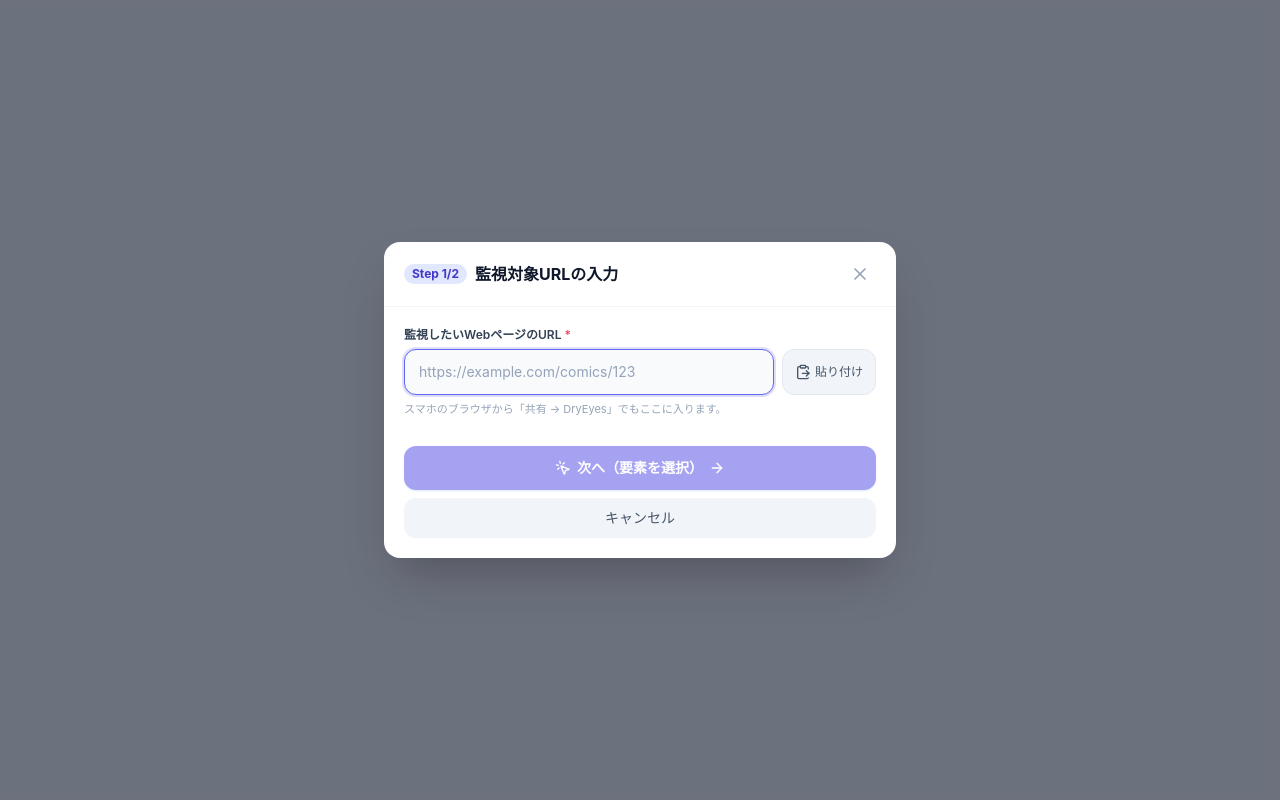
登録前の重複確認 › clears the warning once the URL is edited
Type "https://example.com/manga" into the field with placeholder "https://example.com/comics/123" at (589, 372), box [404,349,774,395]
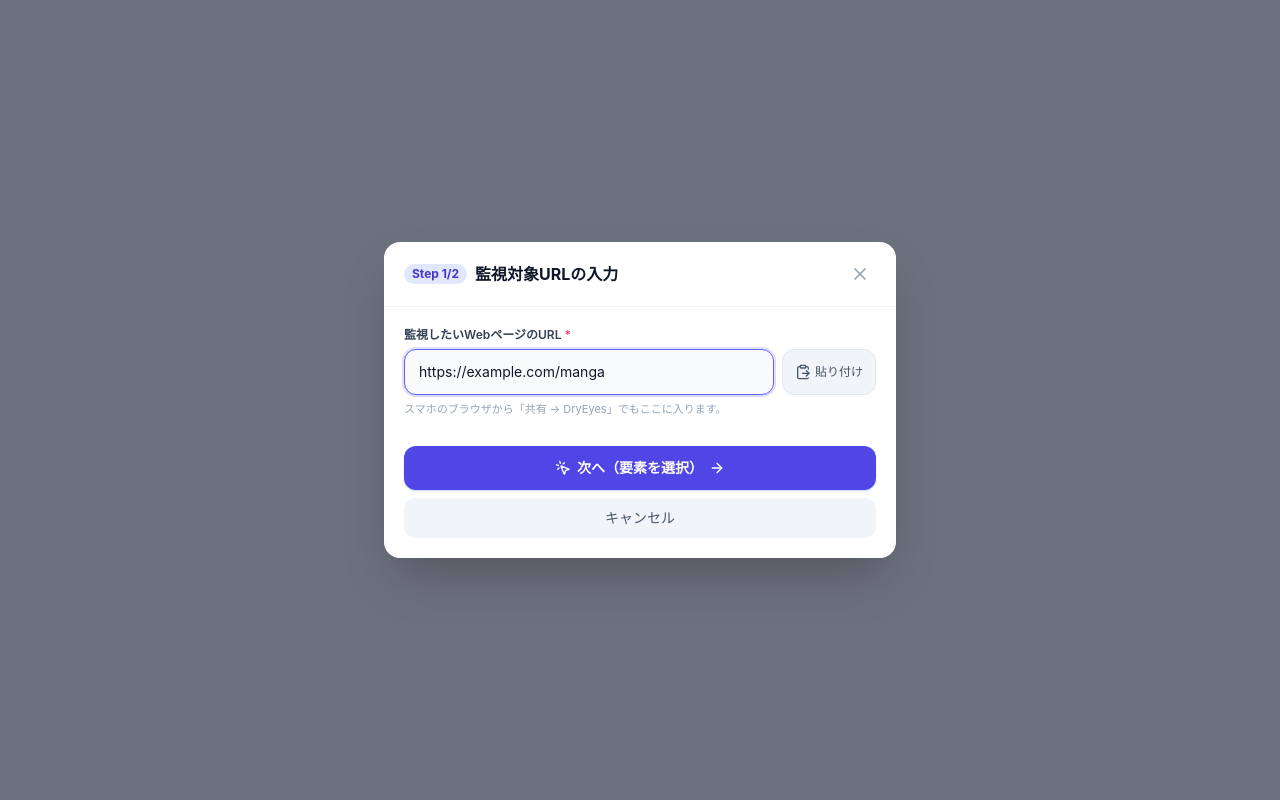
Click the button "次へ（要素を選択）" at (640, 468), box [404,446,876,490]
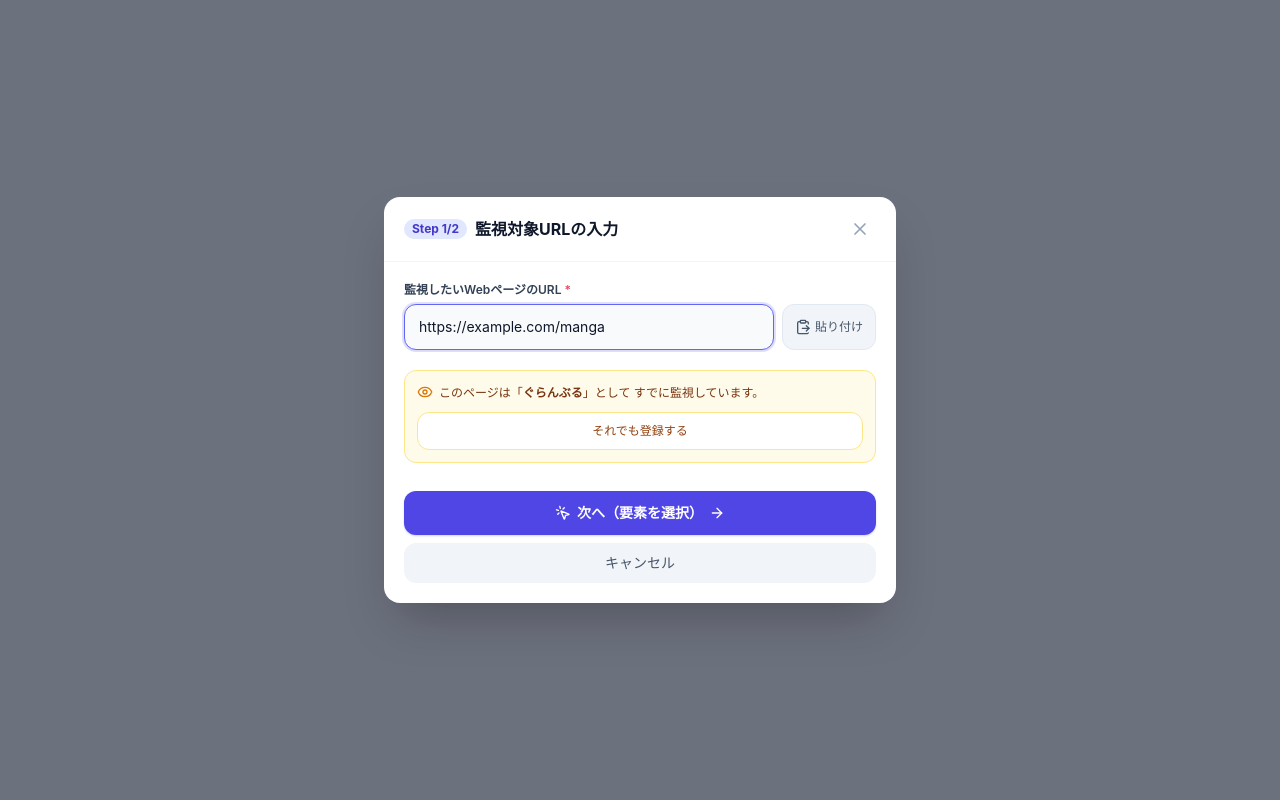
Expected: the text "このページは「ぐらんぶる」として すでに監視しています。" is shown, [439,383,764,402]
Replace the text in the field with placeholder "https://example.com/comics/123" with "https://example.com/manga-2" at (589, 327), box [404,304,774,350]
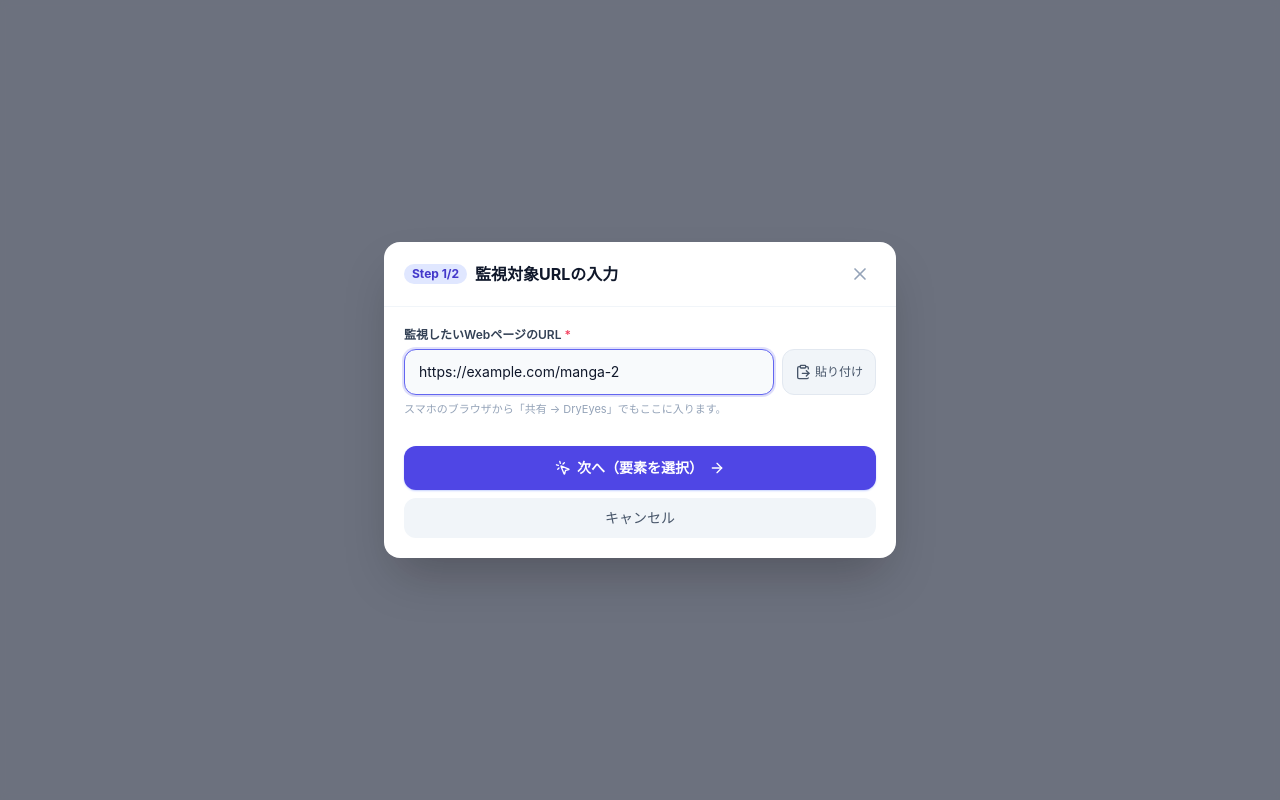
Expected: the text "すでに監視しています" is gone
